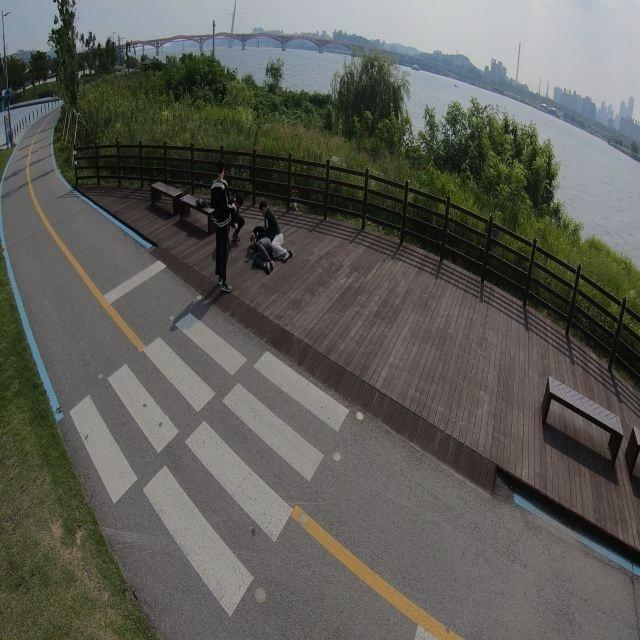fight: (250, 200, 291, 272)
non-fight: (210, 166, 236, 293), (228, 194, 246, 245)
